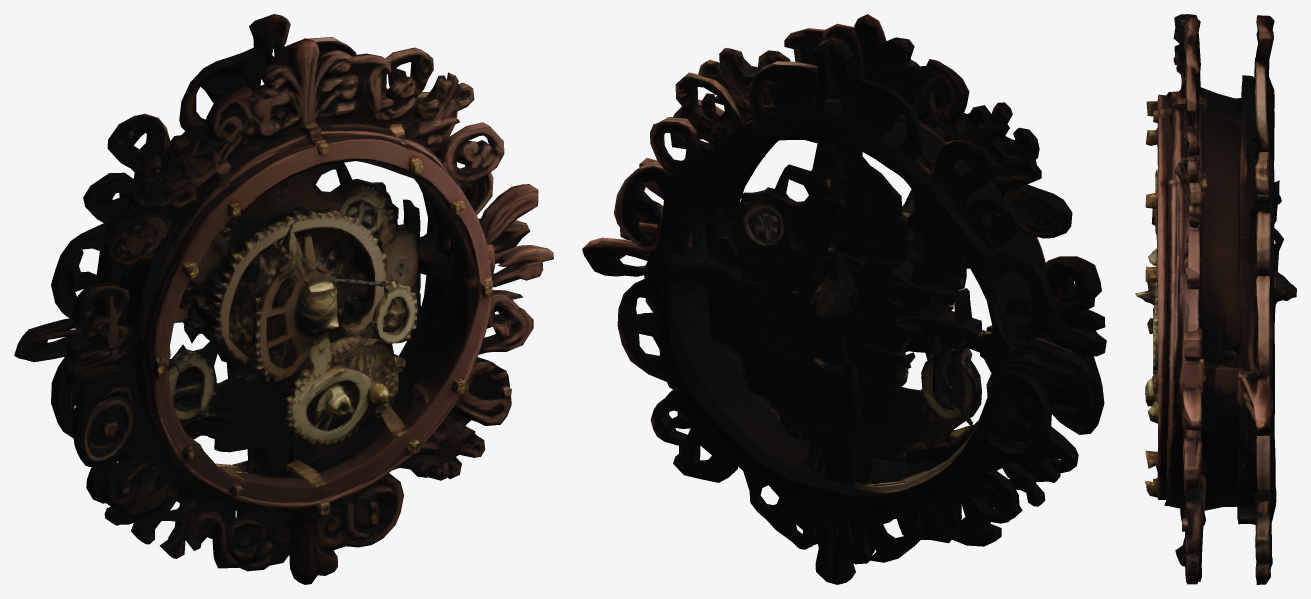
Rendered from wooden-ornamental-clockwork-3d.jpeg.glb.
3 renders of one model, left to right at view 1: azimuth 30°, elevation 25°; view 2: azimuth 150°, elevation 25°; view 3: azimuth 270°, elevation 25°, orthographic. The views are drawn at different scales.
Visible parts, largest first — view 1: world; view 2: world; view 3: world.
Boxes of the visible parts, x1=… form: world: x1=14, y1=14, x2=553, y2=584; world: x1=582, y1=14, x2=1106, y2=584; world: x1=1135, y1=14, x2=1296, y2=584.
Size of the model in its own units: 0.9818 by 1 by 0.2603.
Materials: 1 (1 with a texture image).
